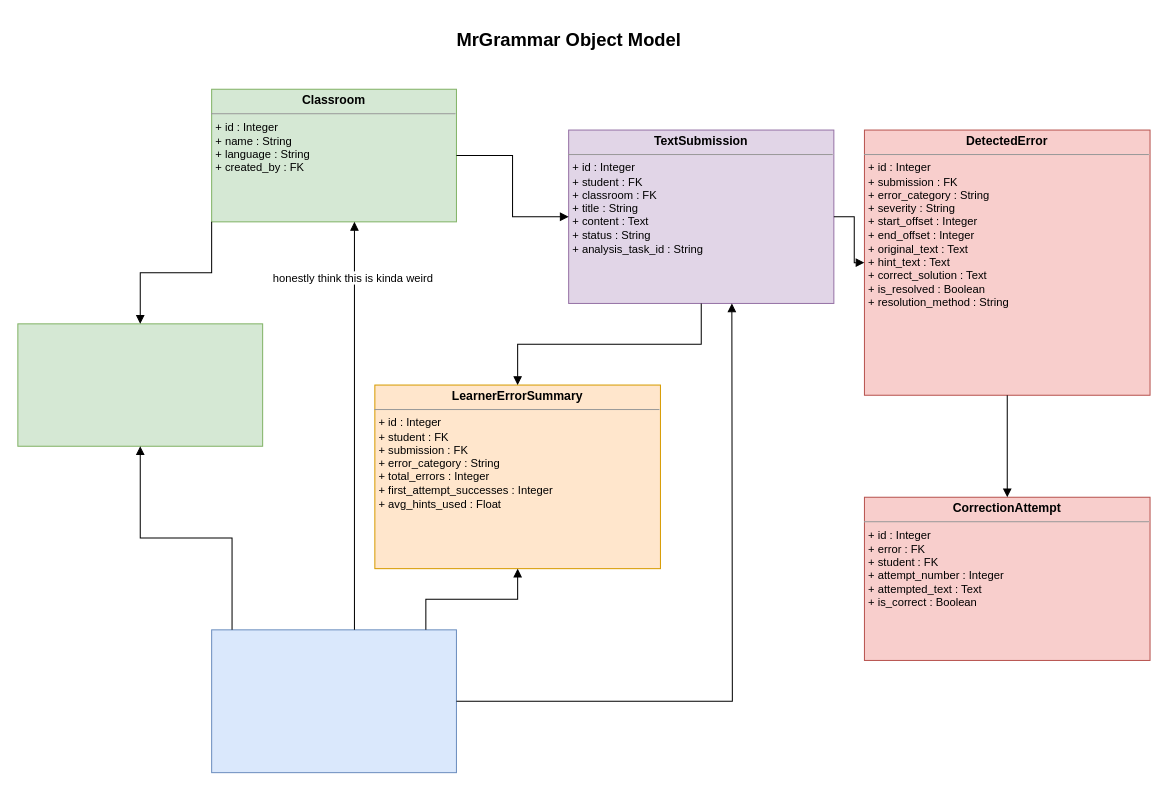
Image size: 1168x791. Some labels were removed from this diagram. Each missing label, with the box of its shape:
ClassroomMembership + id : Integer + user : FK + classroom : FK + role : String: (17, 323, 263, 446)
User + id : Integer + username : String + email : String + role : String: (211, 629, 456, 773)
